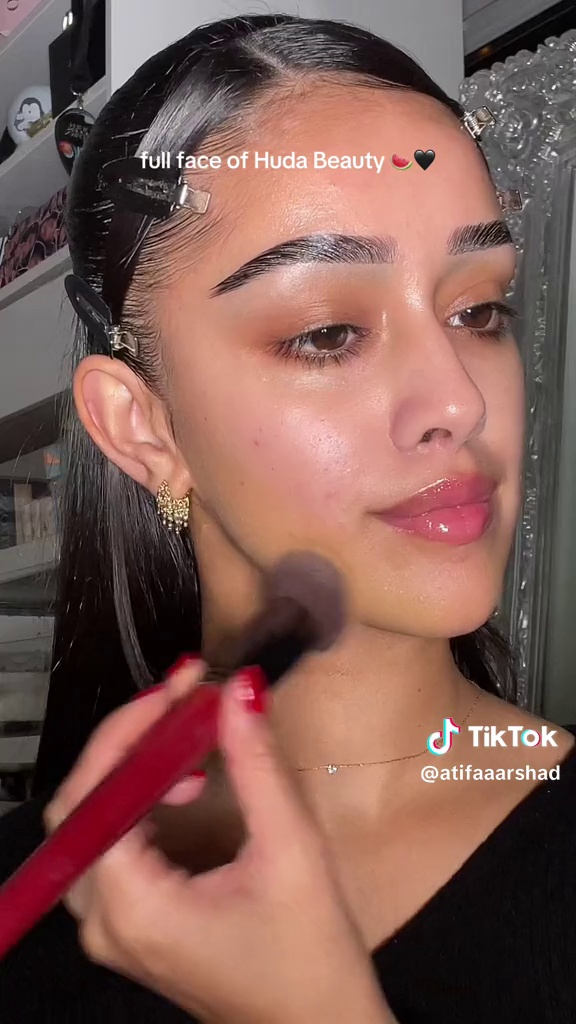train' :'yolo_data/train/images',: (1, 538, 373, 1023)
